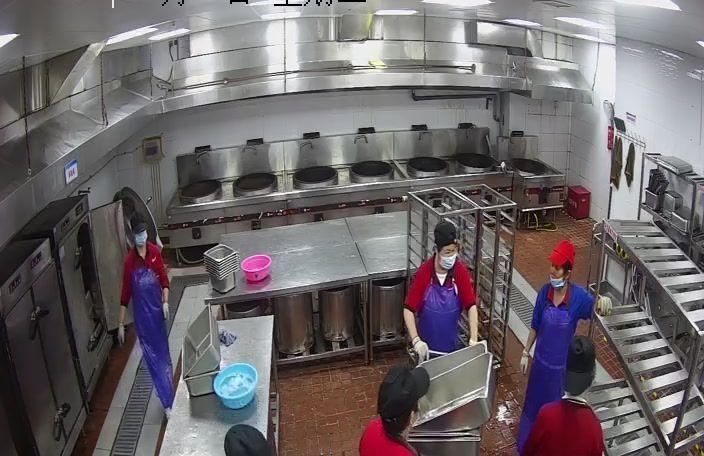mask: (550, 268, 570, 290)
